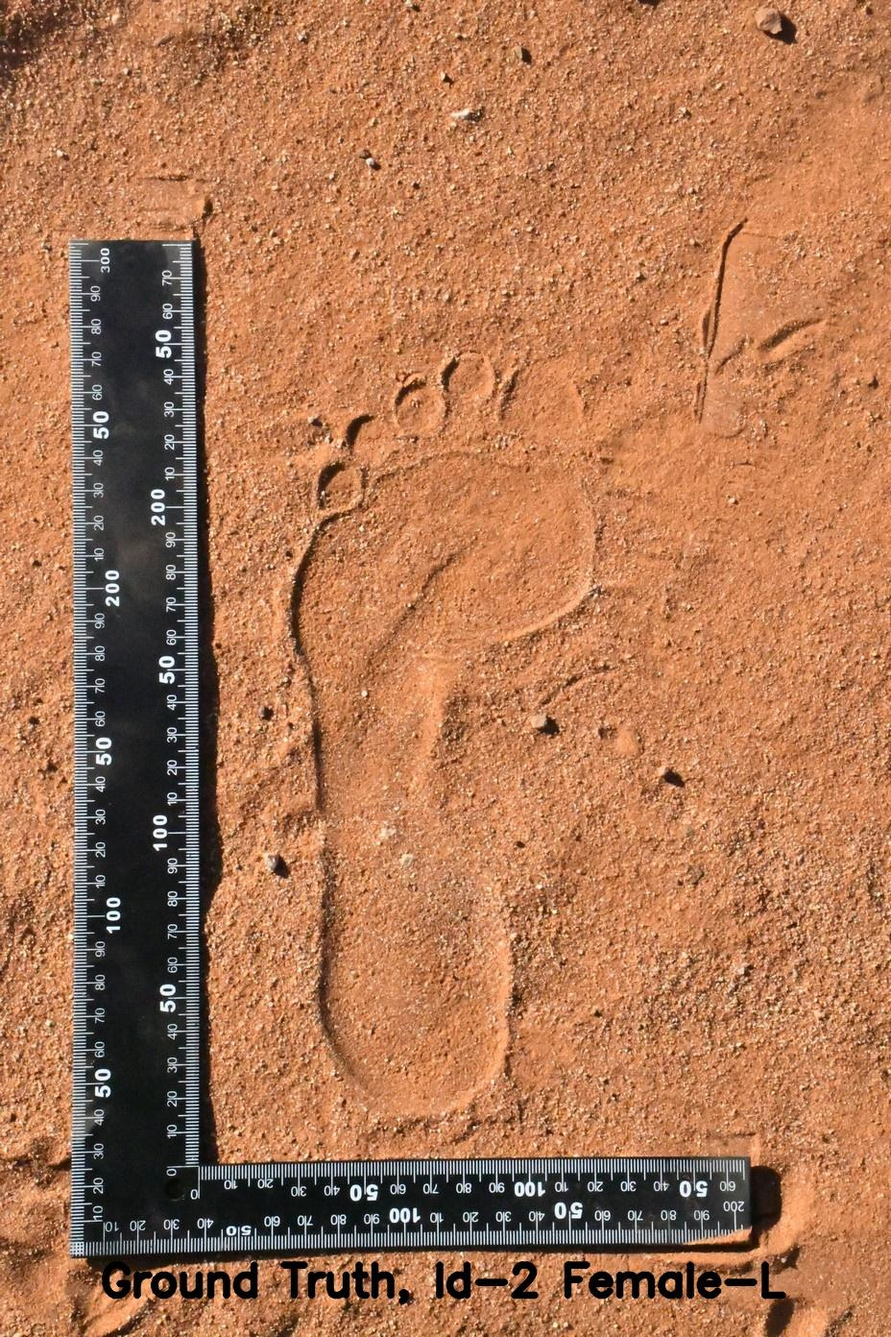human_footprint: (234, 282, 644, 1139)
